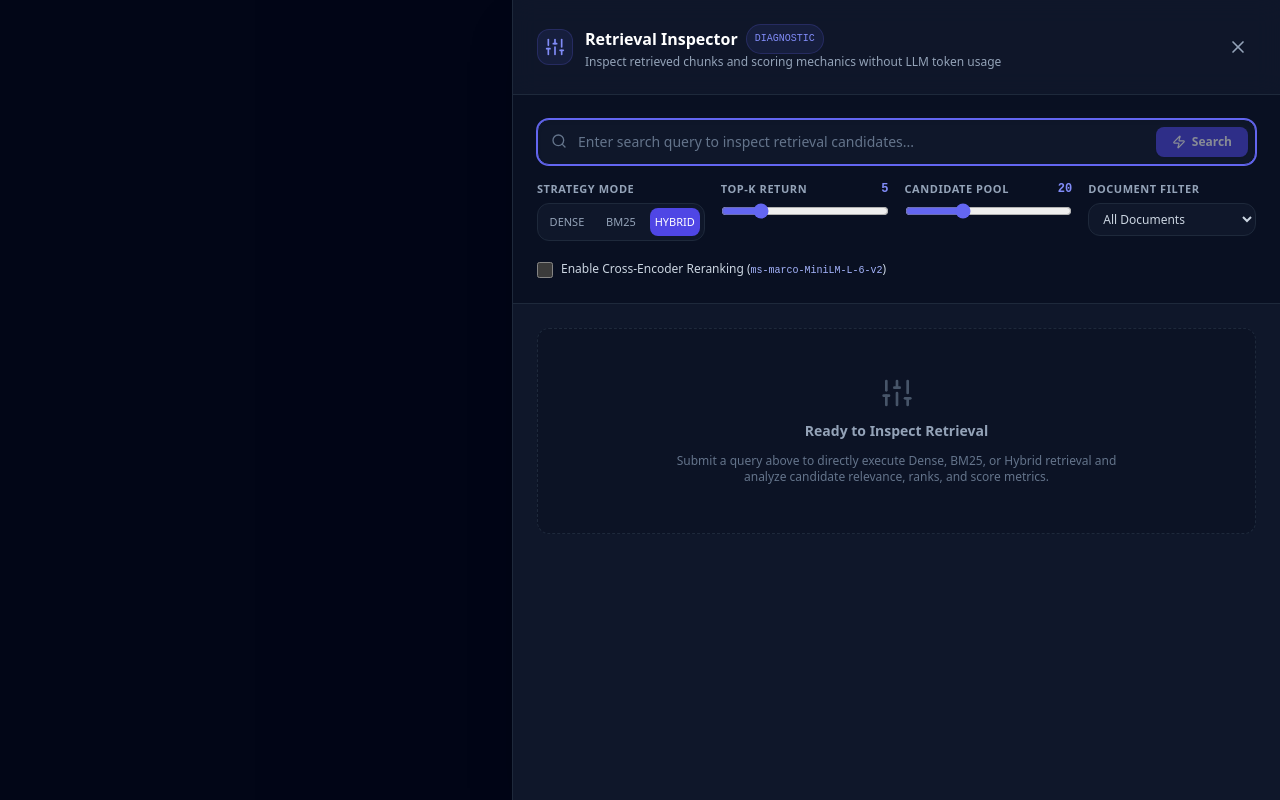
Test: Frontend Component Verification Suite › 15. executes retrieval search and renders chunk cards with multi-stage score badges
Type "quantum superposition" into the field with placeholder "Enter search query to inspect retrieval candidates..." at (896, 142), box 537,119 -> 1256,165
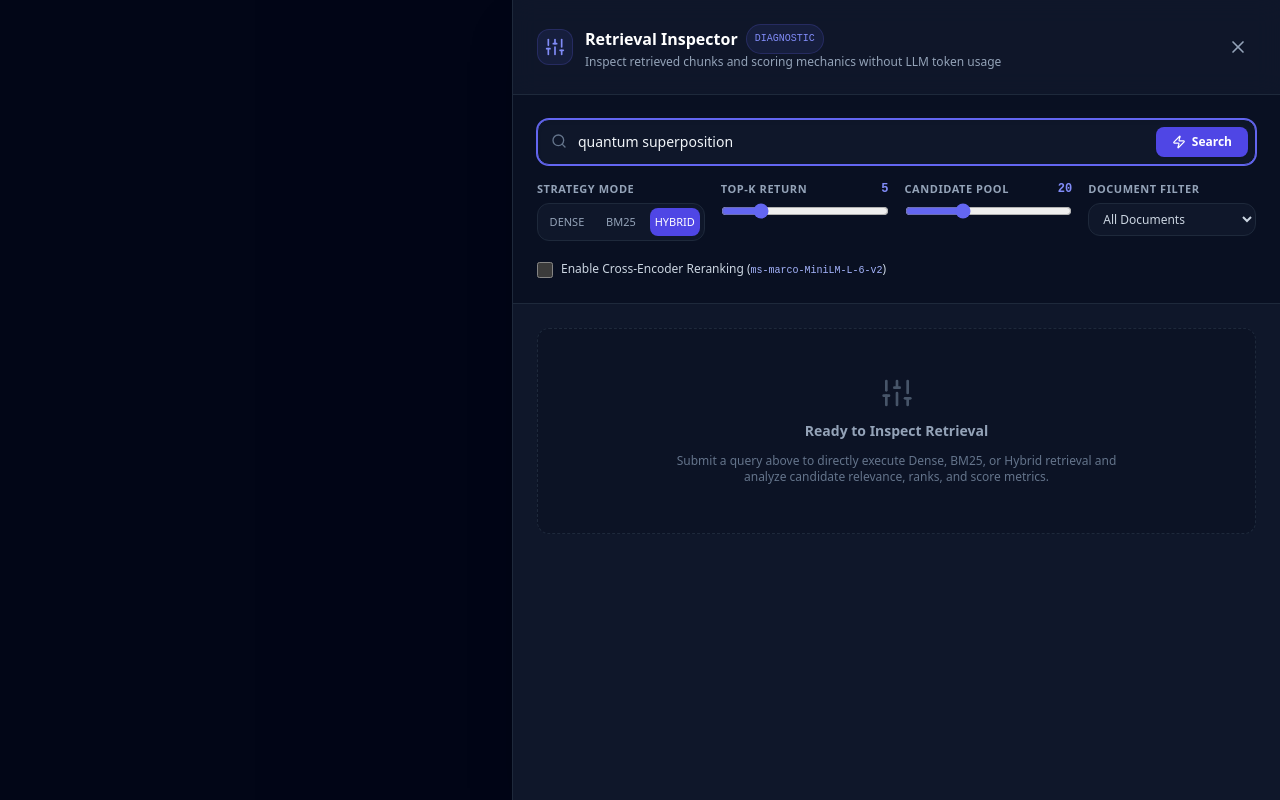
Click the button "Search" at (1202, 142), box 1156,127 -> 1248,157
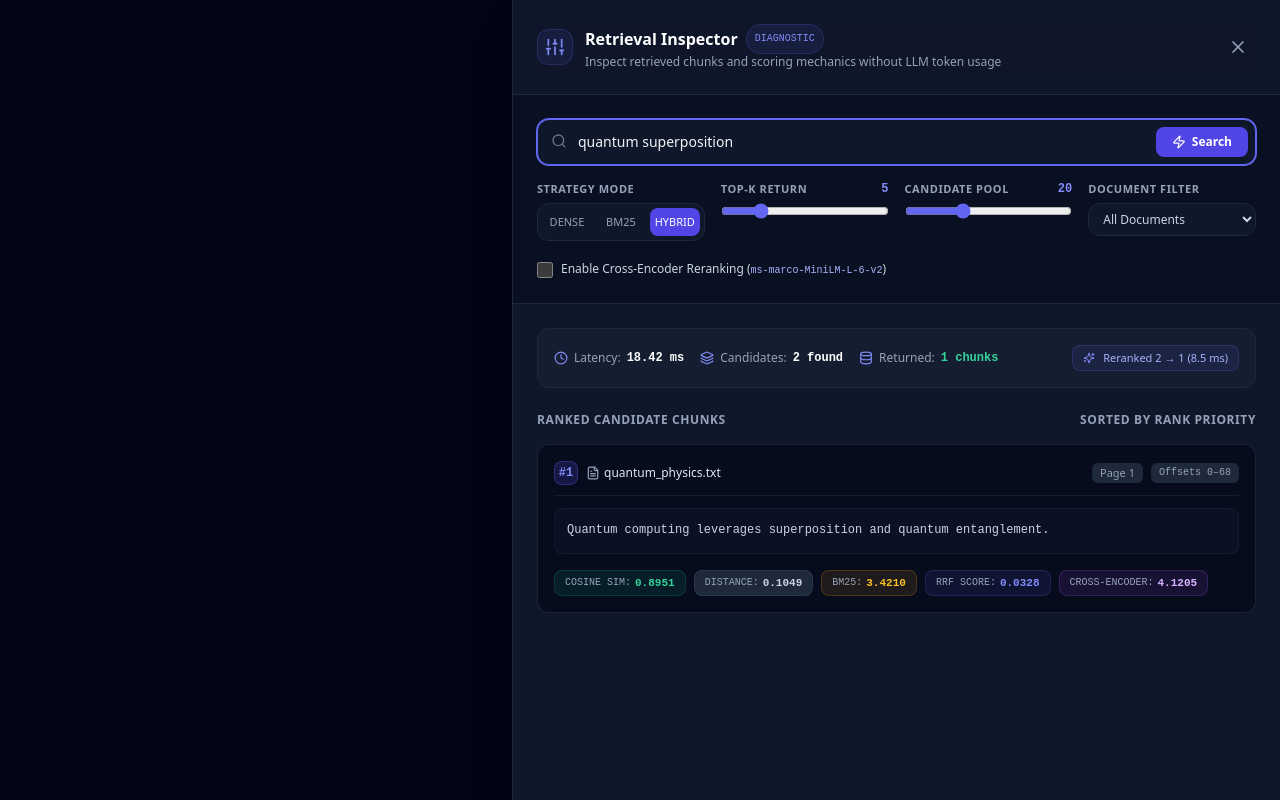
Now the text "18.42 ms" is shown, box 627,350 -> 684,366
Now the text "2 found" is shown, box 793,350 -> 843,366
Now the text "1 chunks" is shown, box 941,350 -> 998,366
